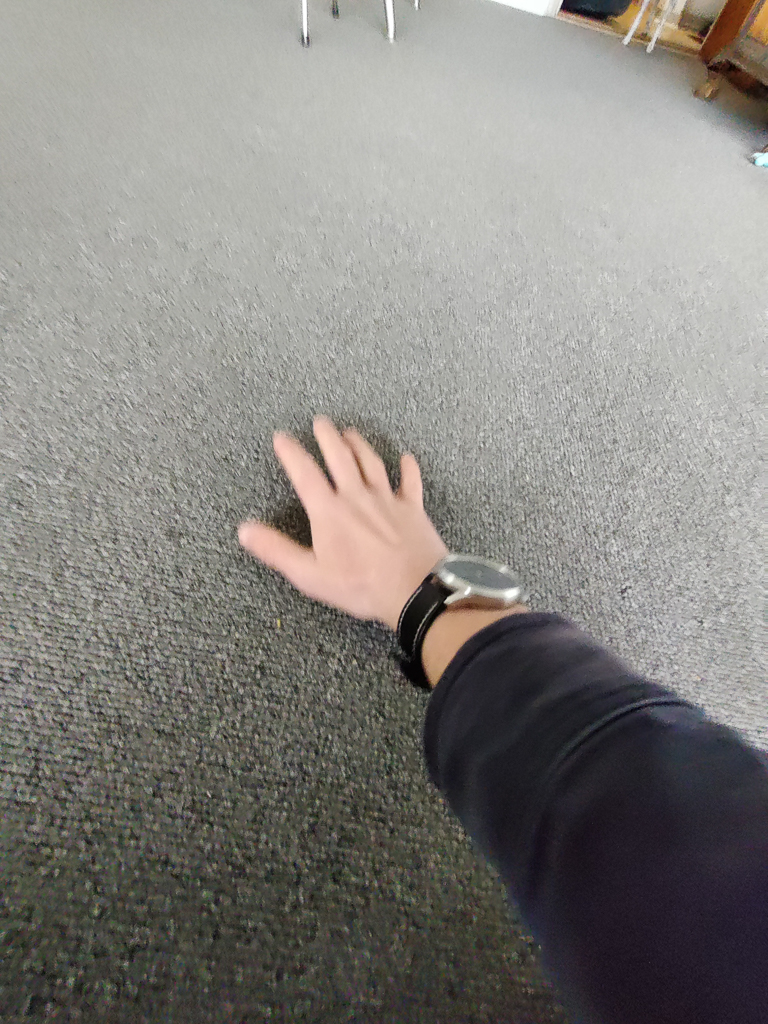Dog: (614, 0, 684, 62)
Humanoid: (212, 393, 768, 1024)
